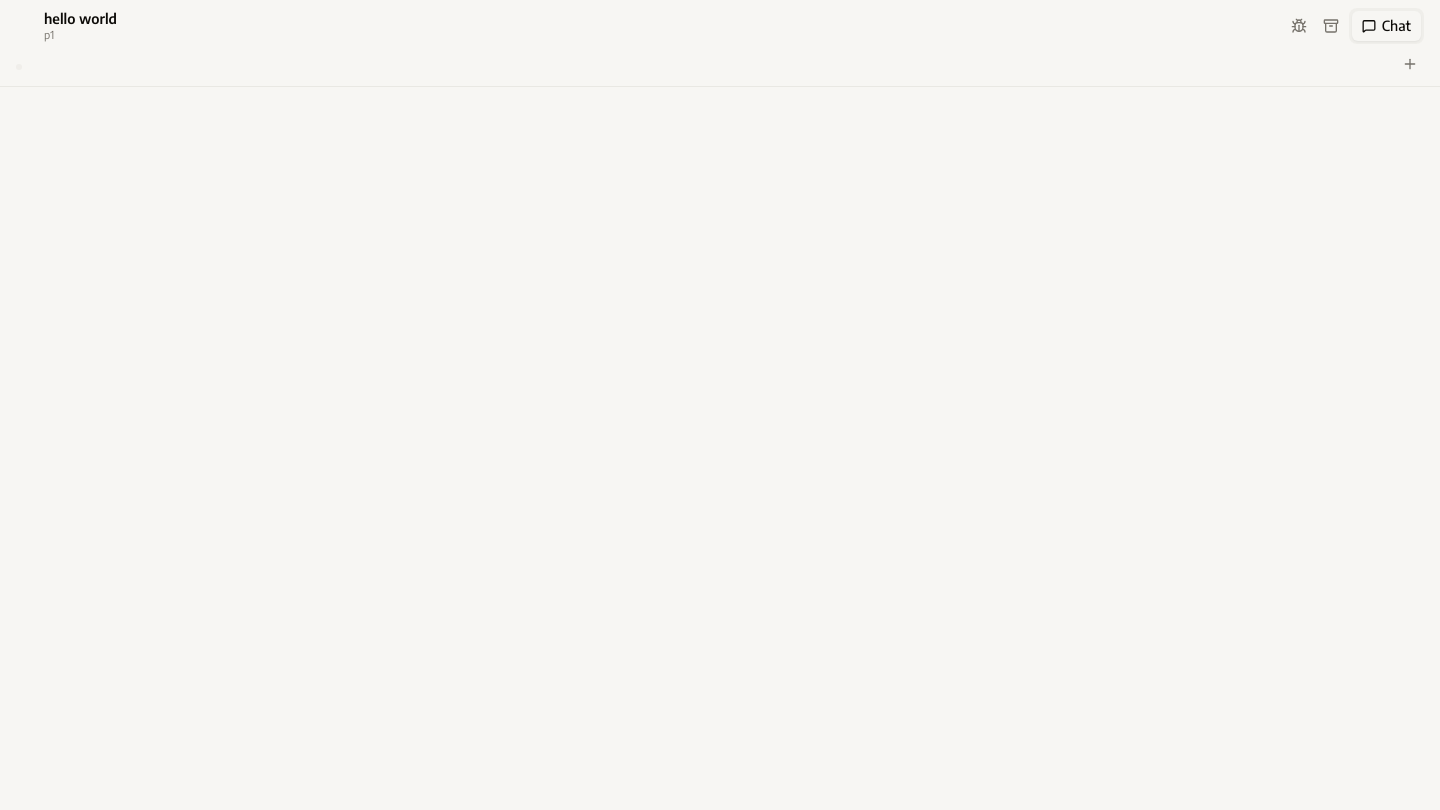
Scenario: MainContentHeader — bug reporter › does not let a keyboard-opened report inherit an earlier tap's viewport
Click the button named "Report a bug".
click(1299, 26)  # box [1285,12,1313,40]
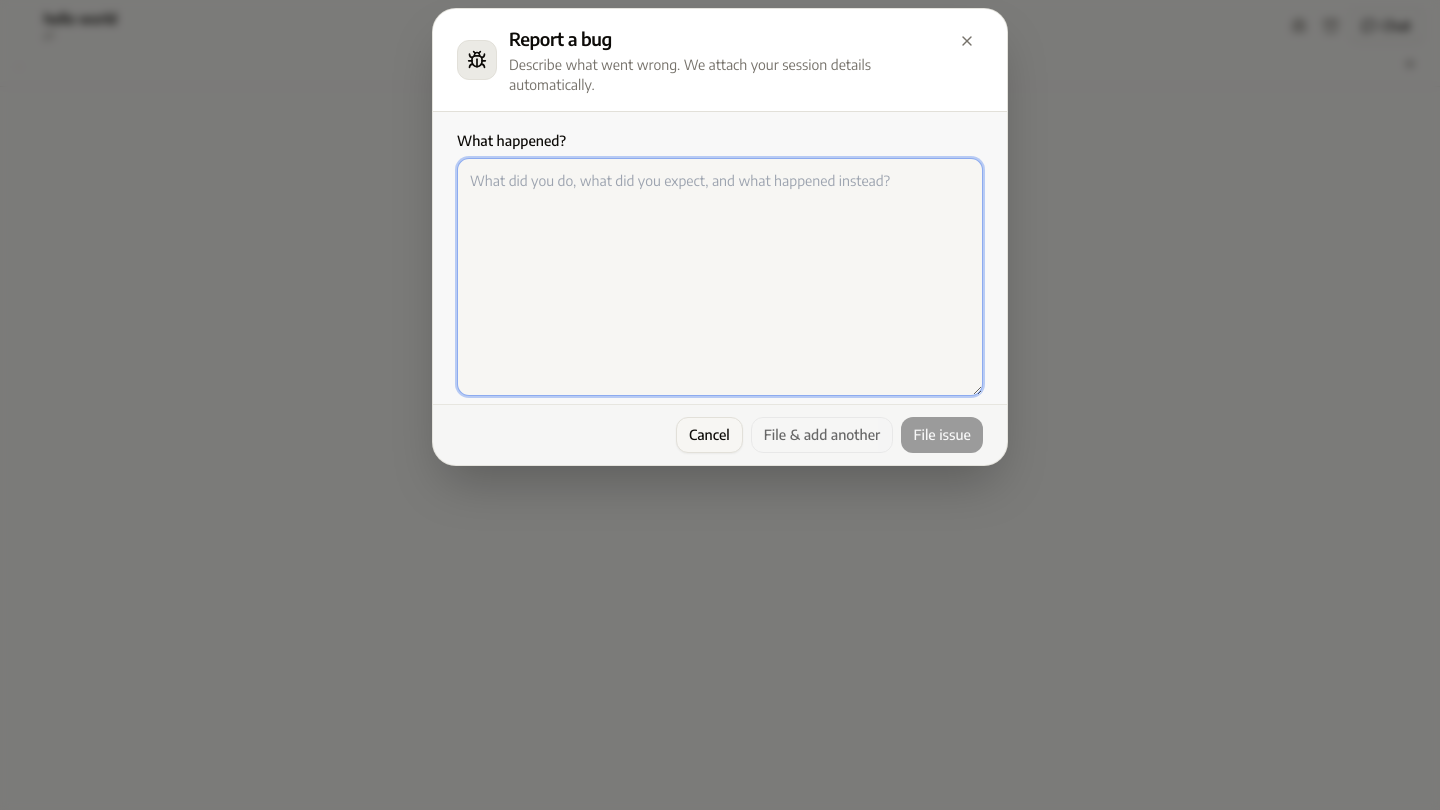
Click the button named "Close bug report".
click(967, 41)  # box [951,25,983,57]
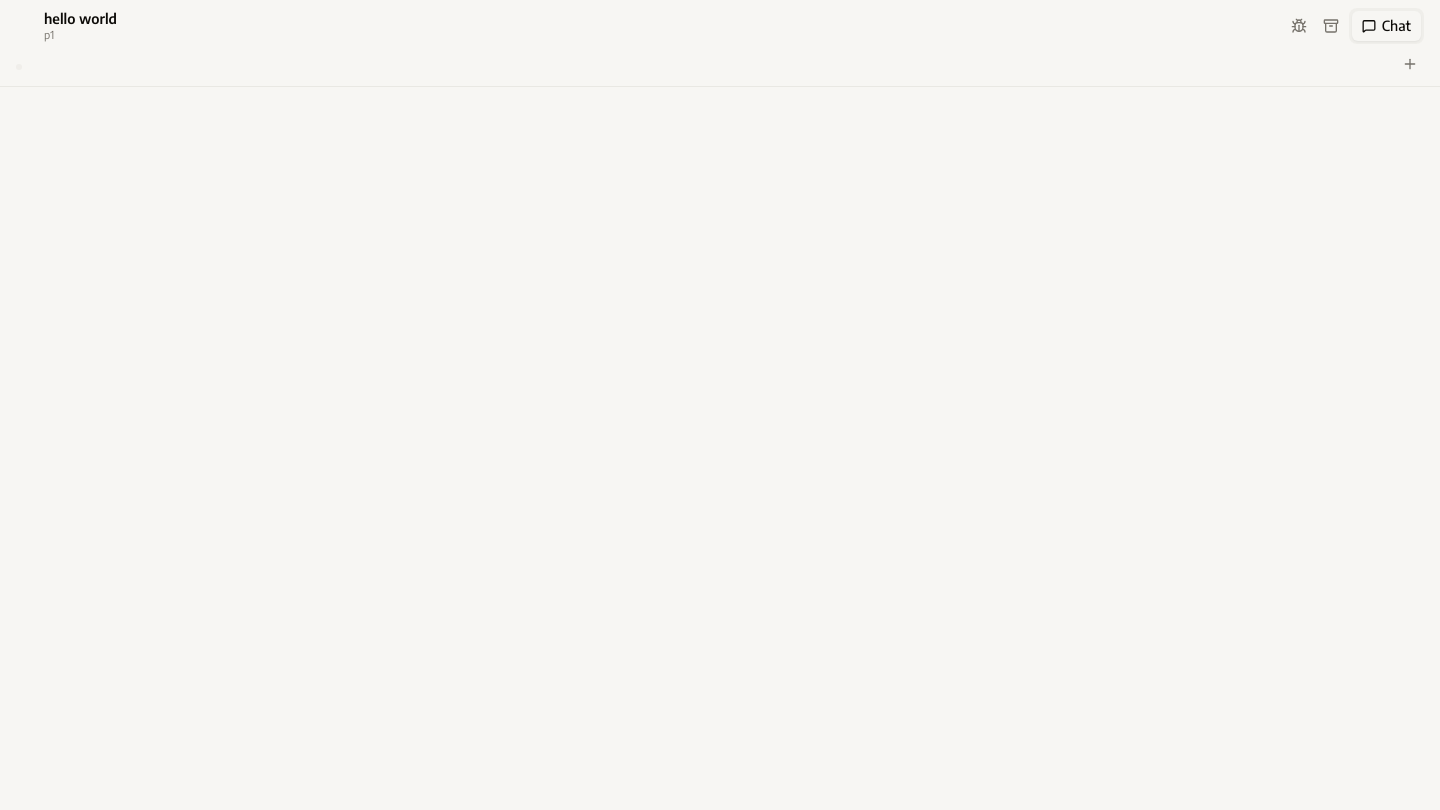
Click the button named "Report a bug".
click(1299, 26)  # box [1285,12,1313,40]
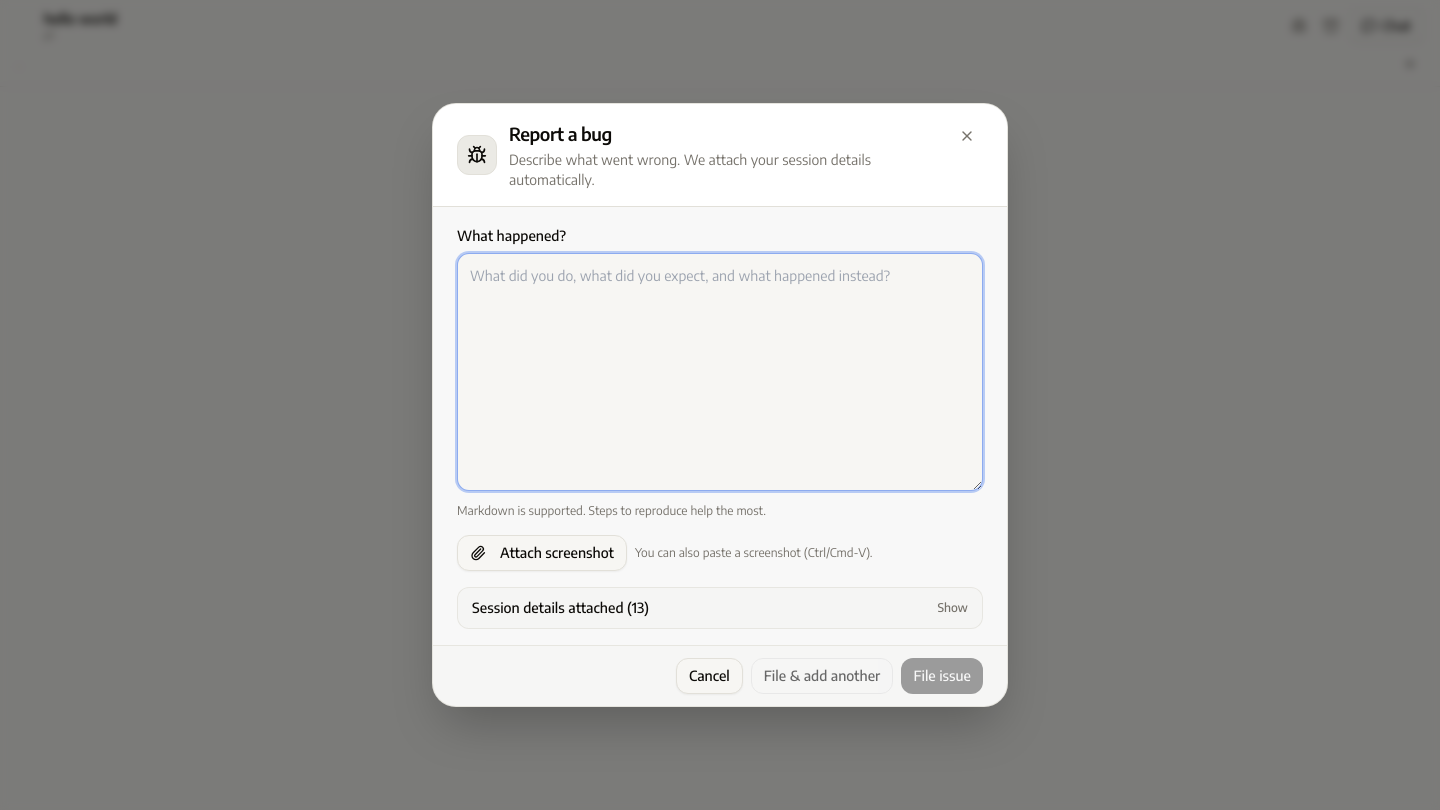
Click the button "Session details attached (13) Show".
click(560, 608)  # box [458,588,982,628]
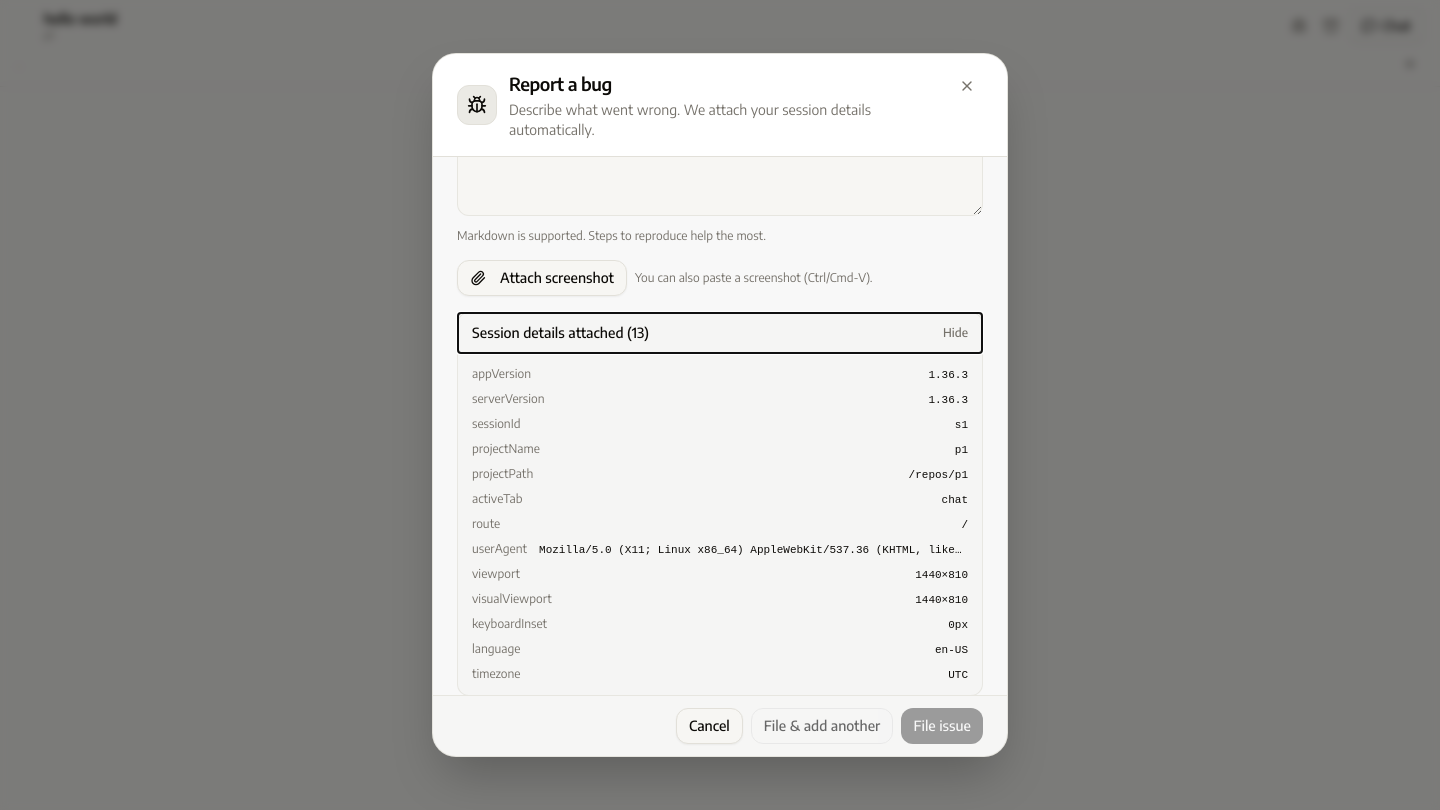
expect the text "0px" is shown: met, box [948,617,968,633]
